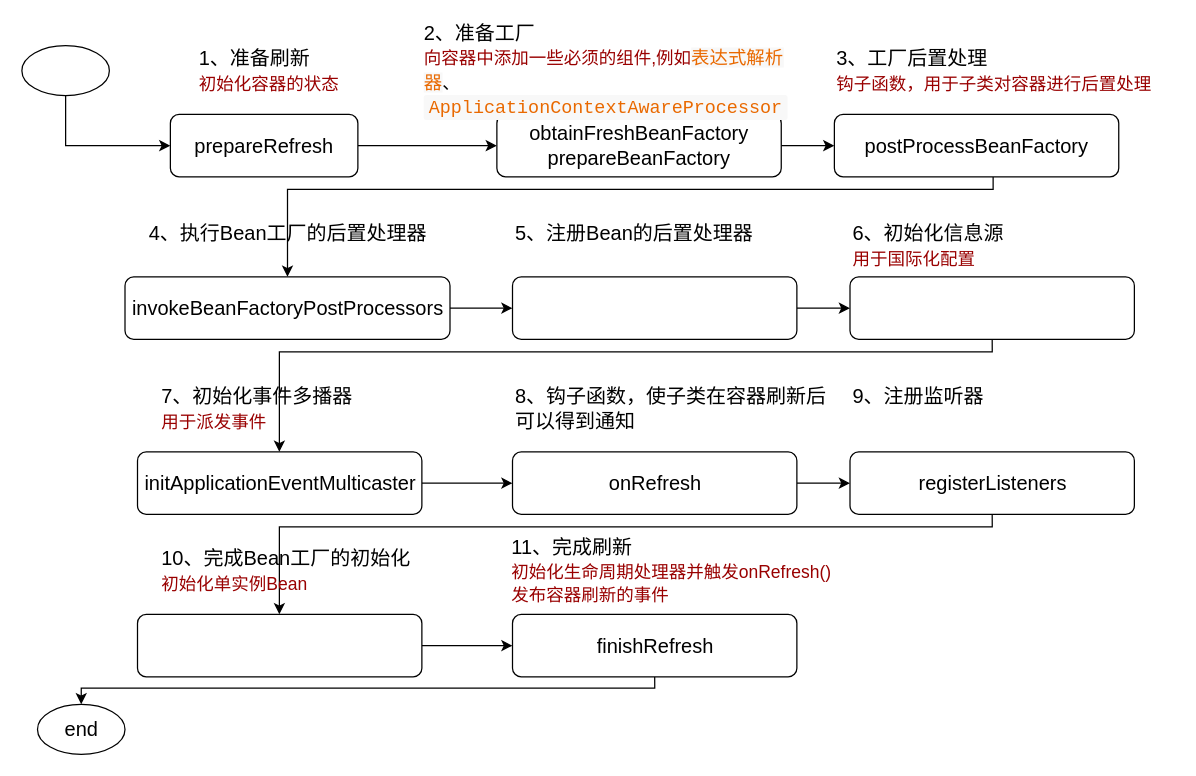
The diagram is 1196 pixels wide and 776 high, and some of its shapes have lost their labels. The shapes that lost their labels are listed below. From the top down, each one's centre as x and y in pixels, then its label:
At point 65,70: "start".
At point 654,307: "registerBeanPostProcessors".
At point 991,307: "initMessageSource".
At point 279,645: "finishBeanFactoryInitialization".
